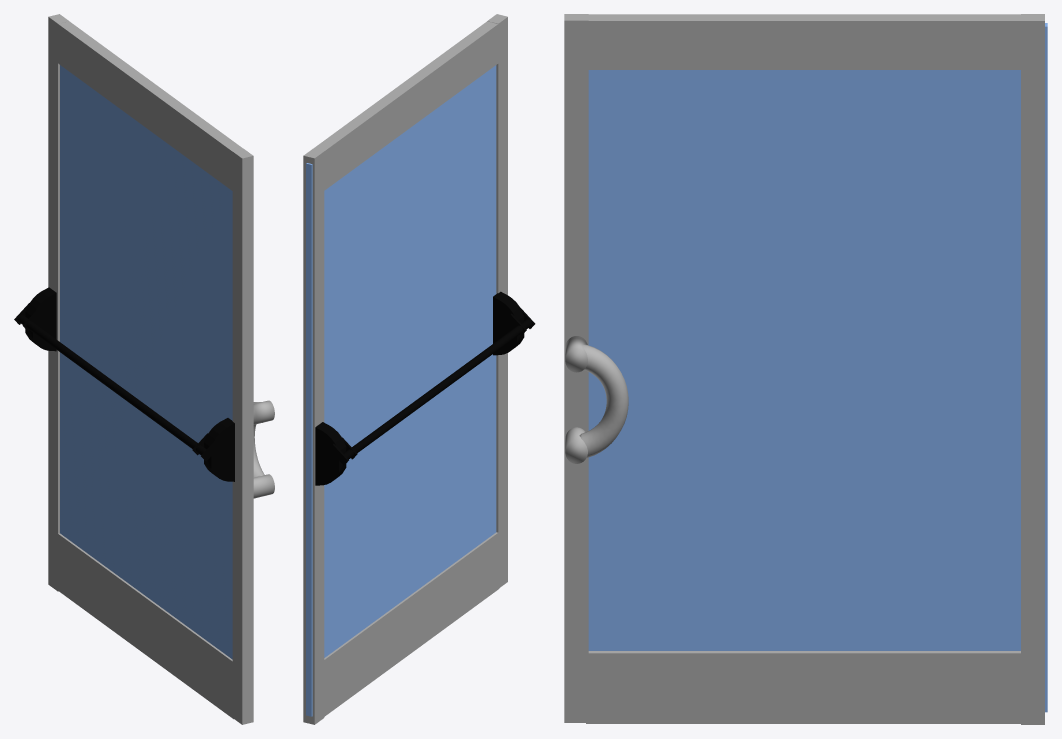
Rendered from PortaEntrata.dae.
The picture shows the model from 3 angles, left to right: view 1: azimuth 30°, elevation 25°; view 2: azimuth 150°, elevation 25°; view 3: azimuth 270°, elevation 25°; orthographic projection. The views are drawn at different scales.
Visible parts, largest first — view 1: Cube_072_Cube_323, AllIng_017, AllIng_011, AllIng_021, AllIng_016, Cube_006_002, Torus; view 2: Cube_072_Cube_323, AllIng_011, AllIng_021, AllIng_016, AllIng_017, Cube_006_002; view 3: Cube_072_Cube_323, AllIng_011, AllIng_021, AllIng_016, AllIng_017, Torus.
Part boxes in pixels (x1,y1,x2,y2): Cube_072_Cube_323: (60,65,232,659); AllIng_017: (232,148,253,724); AllIng_011: (58,533,233,719); AllIng_021: (58,21,242,190); AllIng_016: (48,14,68,591); Cube_006_002: (14,287,234,481); Torus: (253,400,274,498); Cube_072_Cube_323: (306,65,496,716); AllIng_011: (324,532,499,716); AllIng_021: (313,21,498,190); AllIng_016: (303,148,324,724); AllIng_017: (487,14,507,588); Cube_006_002: (315,291,535,485); Cube_072_Cube_323: (588,23,1047,712); AllIng_011: (586,651,1023,723); AllIng_021: (583,14,1021,69); AllIng_016: (1021,14,1044,724); AllIng_017: (564,14,588,722); Torus: (565,336,628,463).
Bounding box in the file's own units: 0.2383 × 1.2 × 1.93.
